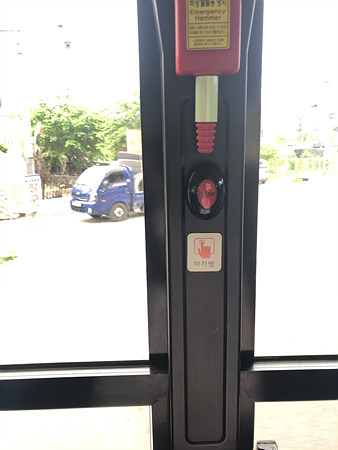bell: (185, 163, 226, 219)
